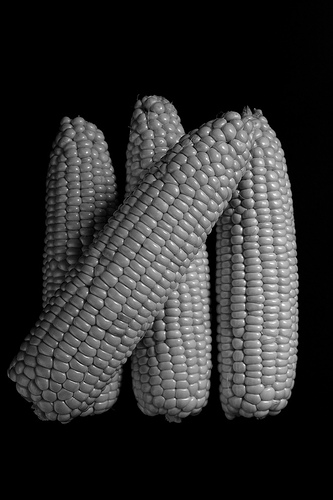corn: (5, 107, 270, 425), (215, 110, 299, 418)
